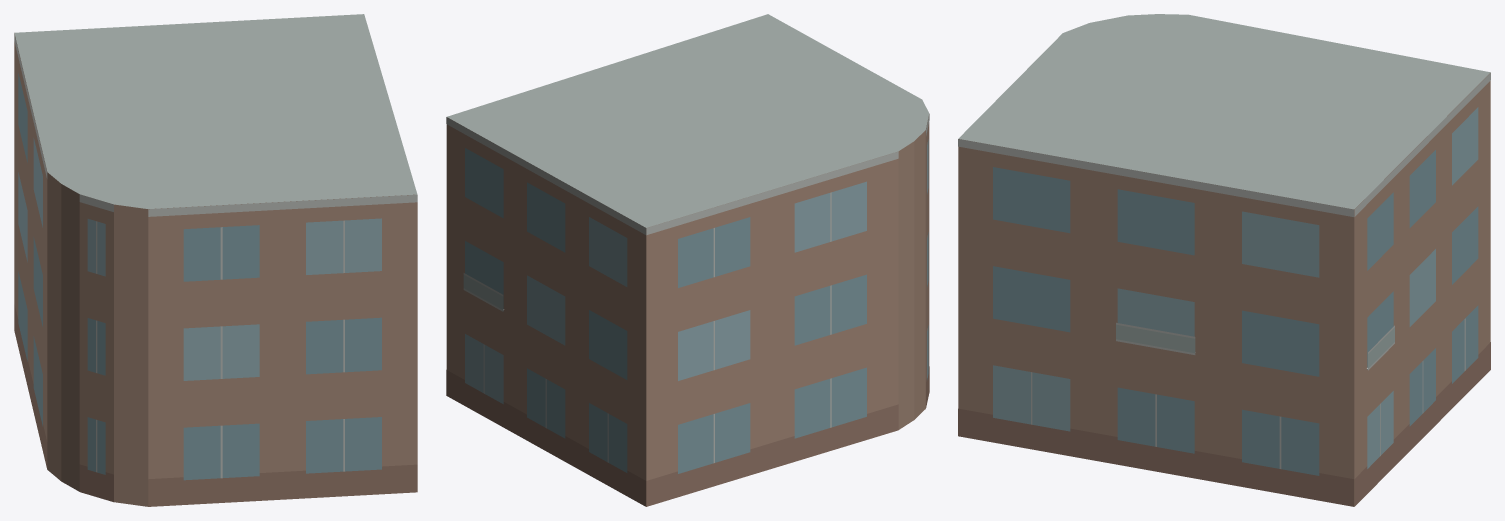
Rendered from survey-upis-32825592.glb.
The picture shows the model from 3 angles, left to right: view 1: azimuth 30°, elevation 25°; view 2: azimuth 150°, elevation 25°; view 3: azimuth 270°, elevation 25°; orthographic projection. The views are drawn at different scales.
Parts seen in each view (by area): view 1: survey-upis-32825592.tmp; view 2: survey-upis-32825592.tmp; view 3: survey-upis-32825592.tmp.
Part boxes in pixels (bbox=[...]): survey-upis-32825592.tmp: bbox=[14, 14, 417, 506]; survey-upis-32825592.tmp: bbox=[446, 14, 929, 506]; survey-upis-32825592.tmp: bbox=[958, 14, 1490, 506].
Size of the model in its own units: 13.12 by 9.3 by 15.1.
